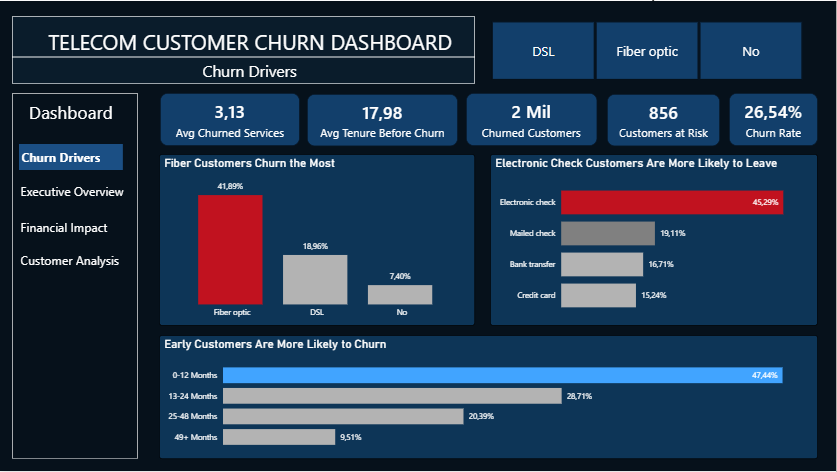

This screenshot's page, from the dashboard's own definition file:
{"tool":"powerbi","page":{"name":"Churn Drivers","canvas":[1280,720],"ordinal":2},"visuals":[{"type":"shape","title":"Telecom Customer Churn Dashboard","box":[18.4,23,708.9,104.1],"z":0},{"type":"shape","title":"Customer Retention Analytics","box":[18.4,140.9,192.9,560.4],"z":1000},{"type":"cardVisual","fields":{"Data":["Medidas.Clientes Churn"]},"box":[713.5,140.9,200.6,81.1],"z":2000},{"type":"textbox","box":[52.1,35.2,661.4,68.9],"z":3000},{"type":"shape","box":[18.4,70.4,708.9,30.6],"z":4000},{"type":"textbox","box":[269.5,85.7,225.1,55.1],"z":5000},{"type":"cardVisual","fields":{"Data":["Medidas.Churn Rate"]},"box":[1116.2,140.9,136.3,81.1],"z":6000},{"type":"cardVisual","fields":{"Data":["Medidas.Avg Services per Churned Customer"]},"box":[245,140.9,214.4,81.1],"z":7000},{"type":"cardVisual","fields":{"Data":["Medidas.Avg Tenure Before Churn"]},"box":[470,142.4,231.2,79.6],"z":8000},{"type":"cardVisual","fields":{"Data":["Medidas.High-Risk Customers"]},"box":[929.4,142.4,173,79.6],"z":9000},{"type":"textbox","box":[29.1,147,159.2,49],"z":10000},{"type":"clusteredColumnChart","title":"Fiber Customers Churn the Most","fields":{"Category":["Telco_customer_churn.Internet Service"],"Y":["Medidas.Churn Rate"]},"box":[243.4,234.3,483.8,263.3],"z":11000},{"type":"clusteredBarChart","title":"Electronic Check Customers Are More Likely to Leave","fields":{"Category":["Telco_customer_churn.Payment Method"],"Y":["Medidas.Churn Rate"]},"box":[750.2,234.3,502.2,263.3],"z":12000},{"type":"clusteredBarChart","title":"Early Customers Are More Likely to Churn","fields":{"Category":["Telco_customer_churn.Tenure Category"],"Y":["Medidas.Churn Rate"]},"box":[243.4,511.4,1009,189.9],"z":13000},{"type":"slicer","fields":{"Values":["Telco_customer_churn.Internet Service"]},"box":[727.3,24.5,525.2,102.6],"z":14000},{"type":"actionButton","box":[27.6,370.5,160.8,50.5],"z":15000},{"type":"actionButton","box":[29.1,218.9,159.2,39.8],"z":16000},{"type":"actionButton","box":[27.6,326.1,157.7,39.8],"z":17000},{"type":"actionButton","box":[27.6,271,171.5,39.8],"z":18000}]}

Visuals, with their boxes in screenshot pixels (x1, y1, x2, y2), scaled from the page's 1280x720 canvas onto the 837x472 screenshot:
"Telecom Customer Churn Dashboard" shape: 12:15:476:83
"Customer Retention Analytics" shape: 12:92:138:460
cardVisual - Medidas.Clientes Churn: 467:92:598:146
textbox: 34:23:467:68
shape: 12:46:476:66
textbox: 176:56:323:92
cardVisual - Medidas.Churn Rate: 730:92:819:146
cardVisual - Medidas.Avg Services per Churned Customer: 160:92:300:146
cardVisual - Medidas.Avg Tenure Before Churn: 307:93:459:146
cardVisual - Medidas.High-Risk Customers: 608:93:721:146
textbox: 19:96:123:128
"Fiber Customers Churn the Most" clusteredColumnChart: 159:154:476:326
"Electronic Check Customers Are More Likely to Leave" clusteredBarChart: 491:154:819:326
"Early Customers Are More Likely to Churn" clusteredBarChart: 159:335:819:460
slicer - Telco_customer_churn.Internet Service: 476:16:819:83
actionButton: 18:243:123:276
actionButton: 19:144:123:170
actionButton: 18:214:121:240
actionButton: 18:178:130:204
